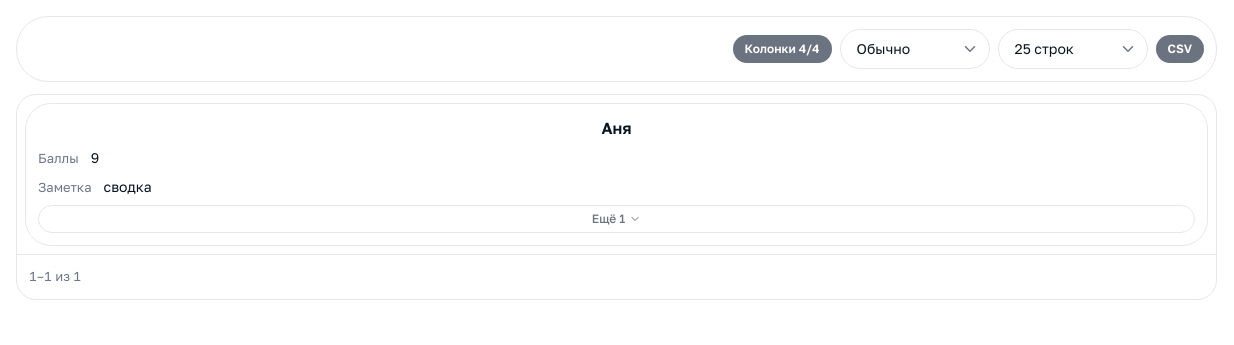
Test case: узкий экран › выводит роли из порядка колонок: первая — заголовок, следующие — сводка, прочие под раскрытием
The width and height of the screenshot is (1234, 345).
Expected: the text "Аня" is shown, [602,118,632,138]
Expected: the text "сводка" is shown, [104,176,152,196]
Click the button "Ещё 1": (616, 219) [38,205,1195,233]
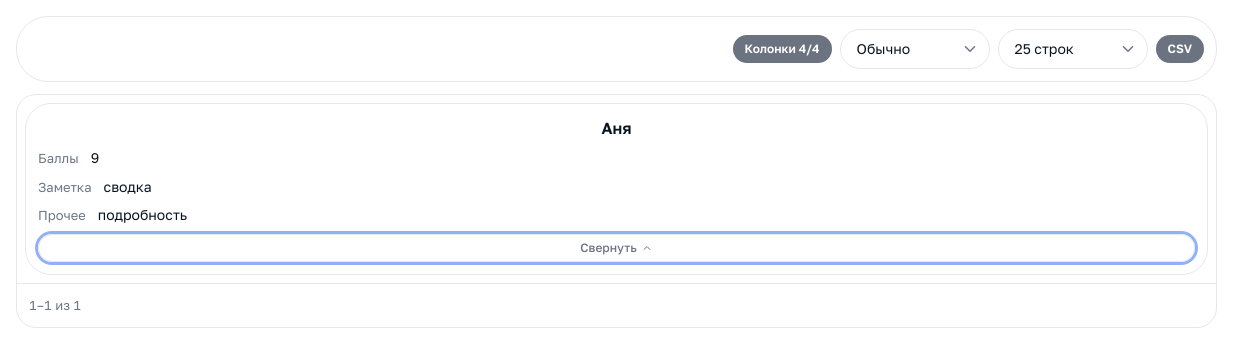
Now the text "подробность" is shown, box [98,205,187,225]
